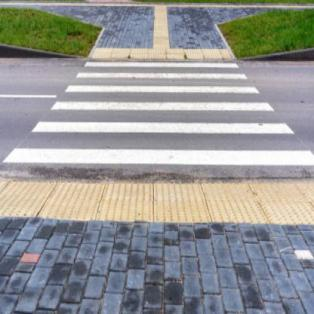Podoctatil: (0, 174, 312, 222)
